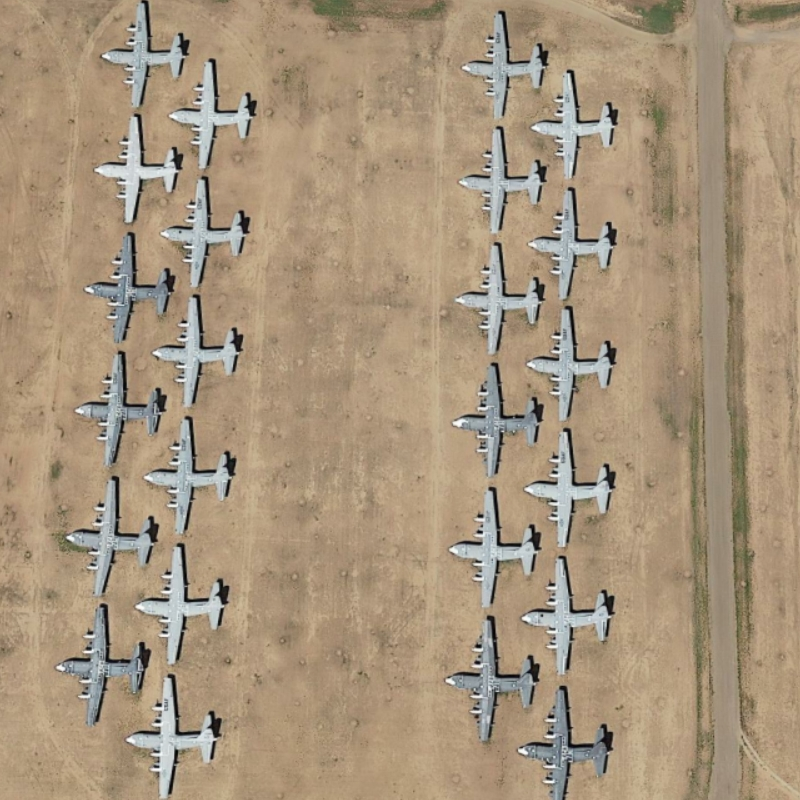A2: (126, 540, 238, 670), (120, 666, 228, 799), (522, 420, 625, 553), (141, 410, 248, 537), (49, 602, 156, 729), (57, 471, 163, 599), (518, 548, 622, 678), (443, 611, 541, 748), (518, 303, 623, 426), (450, 356, 550, 483), (69, 348, 170, 473), (162, 51, 265, 172), (89, 2, 204, 110), (515, 684, 622, 800), (446, 484, 544, 610), (154, 175, 262, 289), (76, 228, 179, 345), (146, 289, 245, 410), (87, 111, 189, 228), (450, 239, 551, 357), (526, 183, 624, 304), (457, 5, 554, 124), (454, 122, 549, 239), (532, 63, 623, 183)
